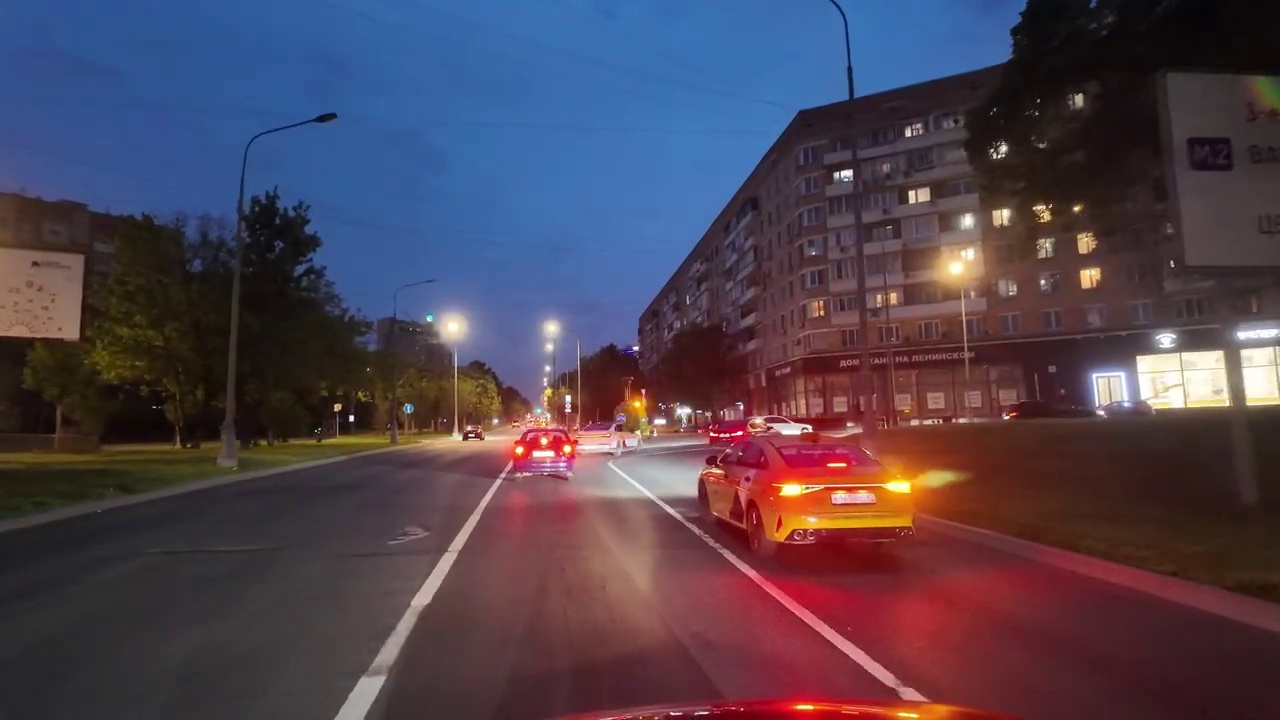acesa: (935, 249, 979, 289), (439, 314, 467, 341), (540, 317, 562, 348)
apagada: (310, 106, 340, 130)
